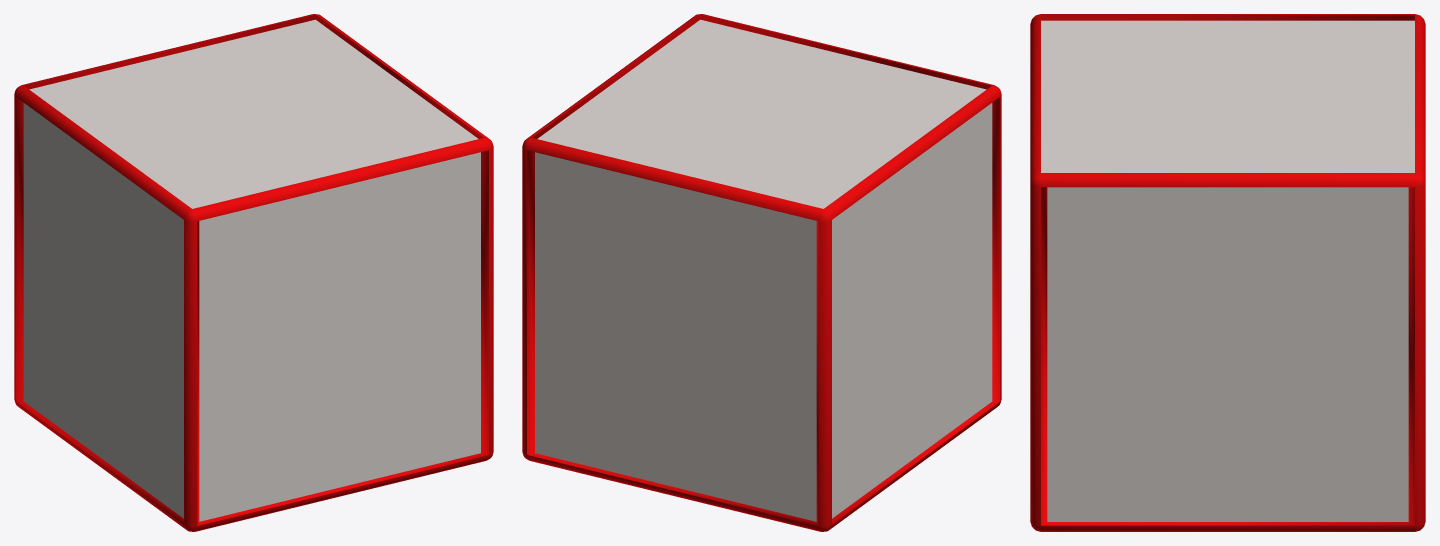
3 renders of one model, left to right at view 1: azimuth 30°, elevation 25°; view 2: azimuth 150°, elevation 25°; view 3: azimuth 270°, elevation 25°, orthographic. The views are drawn at different scales.
Parts seen in each view (by area): view 1: Cube_1.0; view 2: Cube_1.0; view 3: Cube_1.0.
Boxes of the visible parts, bbox=[...] form: Cube_1.0: bbox=[14, 14, 493, 531]; Cube_1.0: bbox=[522, 14, 1001, 531]; Cube_1.0: bbox=[1030, 14, 1425, 531].
Size of the model in its own units: 100 by 99.85 by 100.
